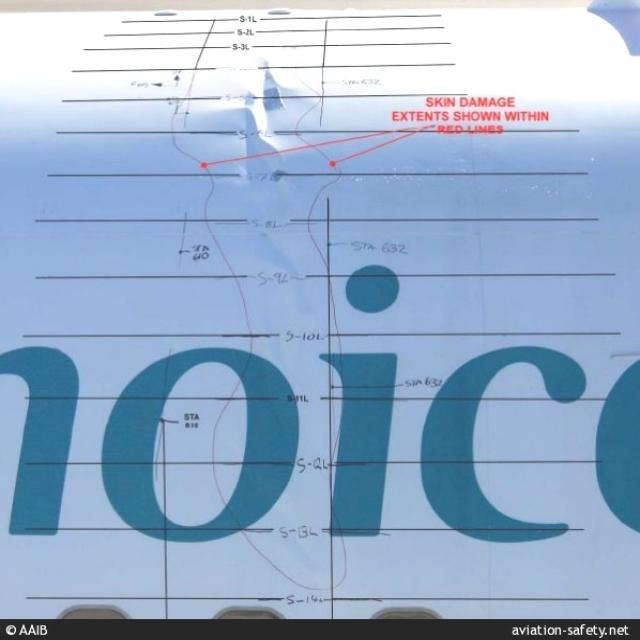dent: (185, 56, 304, 170)
